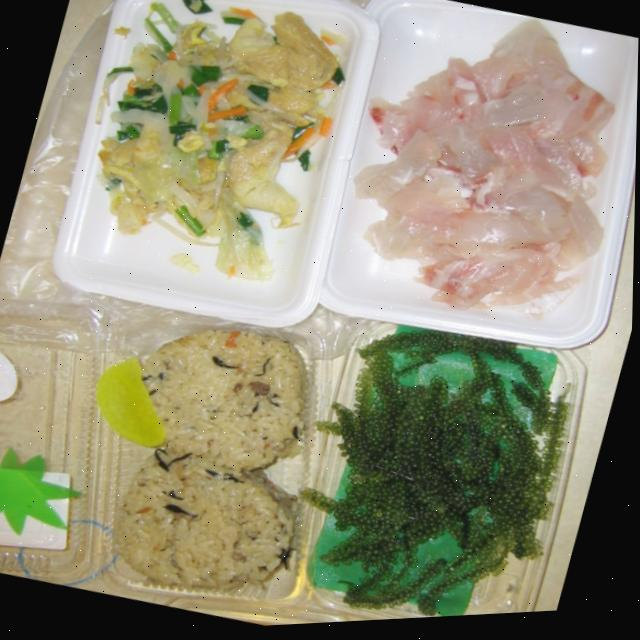刺身生食: (292, 0, 640, 370)
